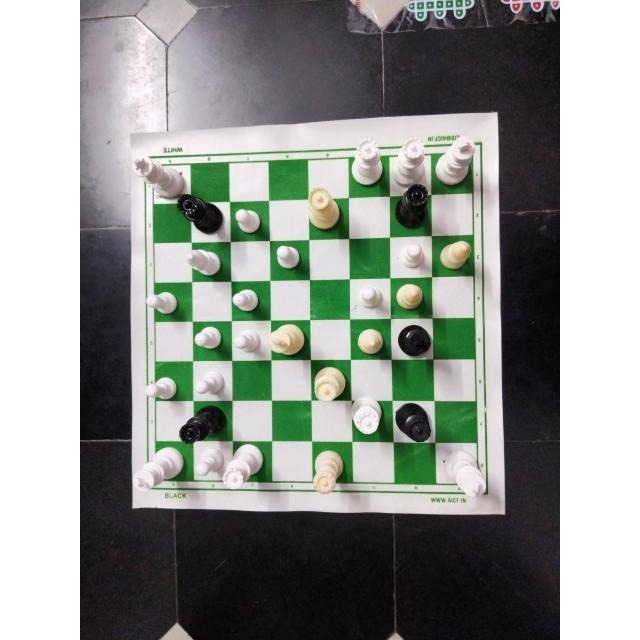black-king: (393, 323, 433, 357)
black-queen: (177, 193, 222, 238), (177, 404, 227, 444), (389, 185, 436, 227), (392, 400, 434, 446)
white-bishop: (437, 237, 473, 275), (351, 321, 387, 359), (392, 278, 428, 315), (185, 245, 223, 278)
white-king: (132, 445, 182, 495), (433, 134, 477, 189), (444, 449, 487, 504), (132, 154, 184, 198), (268, 320, 308, 360)
white-pawn: (230, 205, 263, 241), (191, 367, 231, 396), (189, 447, 223, 481), (145, 287, 181, 319), (230, 287, 264, 319), (143, 372, 181, 400), (192, 323, 225, 355), (231, 327, 262, 359), (395, 241, 428, 270), (272, 242, 302, 273), (355, 283, 385, 311)
white-queen: (222, 444, 266, 491), (310, 443, 350, 493), (347, 137, 384, 187), (390, 137, 428, 185), (303, 185, 342, 229), (348, 394, 386, 438), (310, 362, 348, 404)
